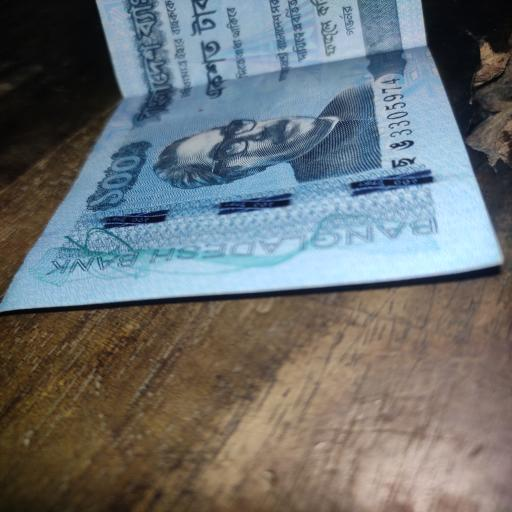100taka: (10, 0, 499, 305)
